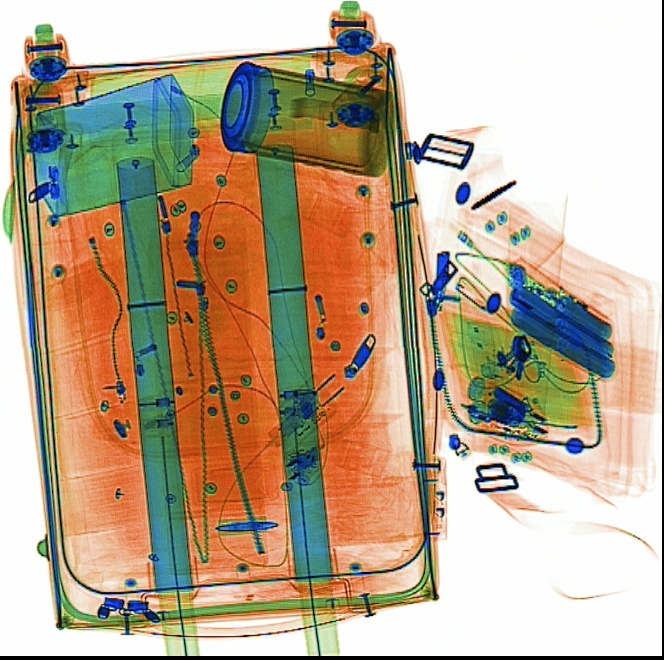powerbank: (501, 253, 617, 378)
